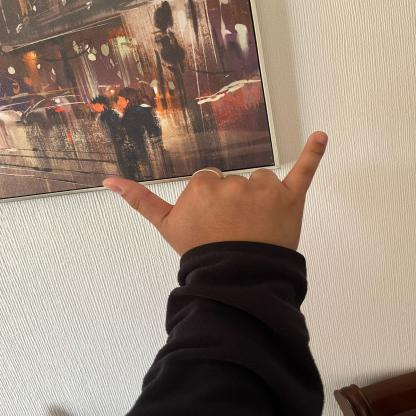Y: (94, 123, 336, 264)
